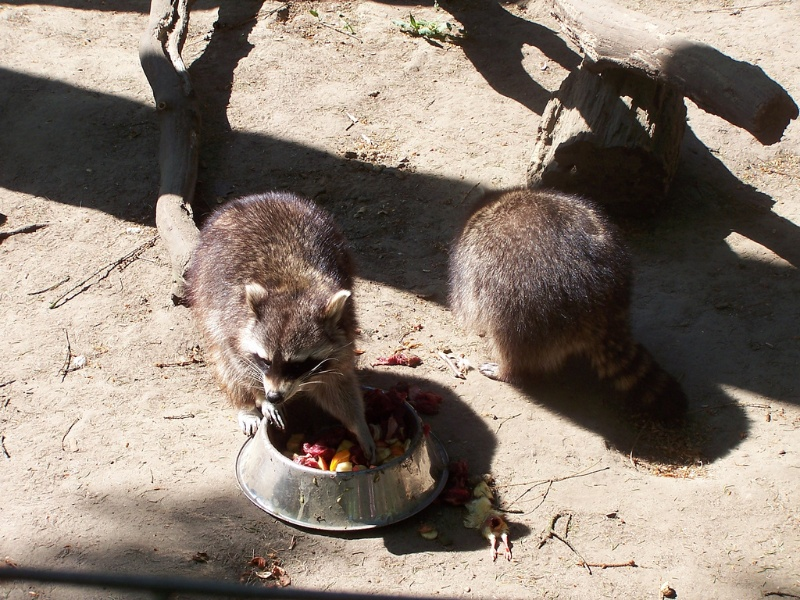raccoon: (453, 185, 700, 439), (193, 191, 379, 466)
